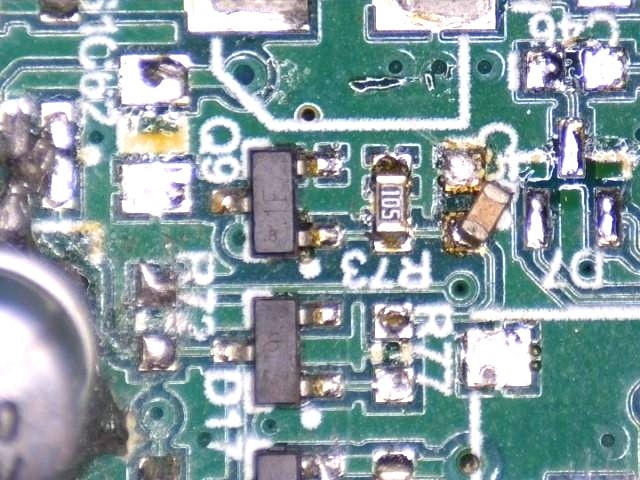pcb_defect: (211, 150, 341, 259), (442, 147, 513, 253)
